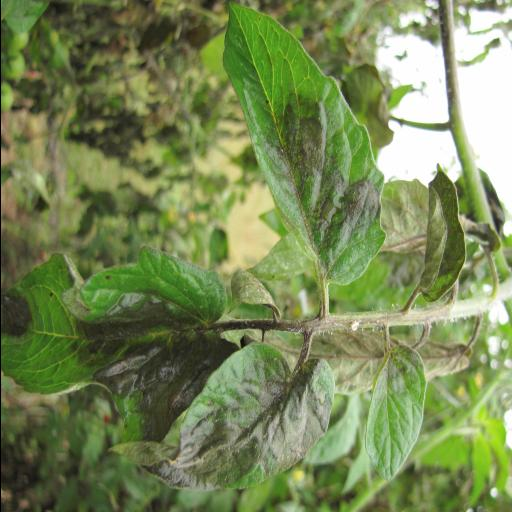Late Blight: (219, 0, 388, 286), (1, 236, 234, 434), (106, 336, 332, 510)
